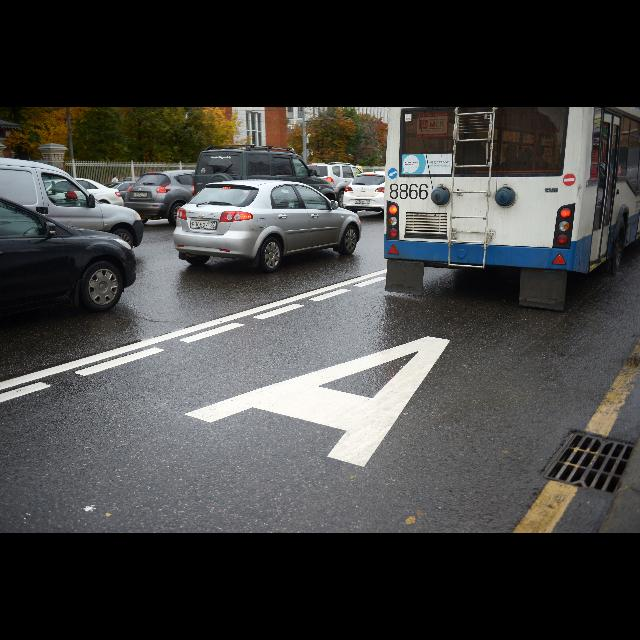road: (0, 212, 640, 532)
